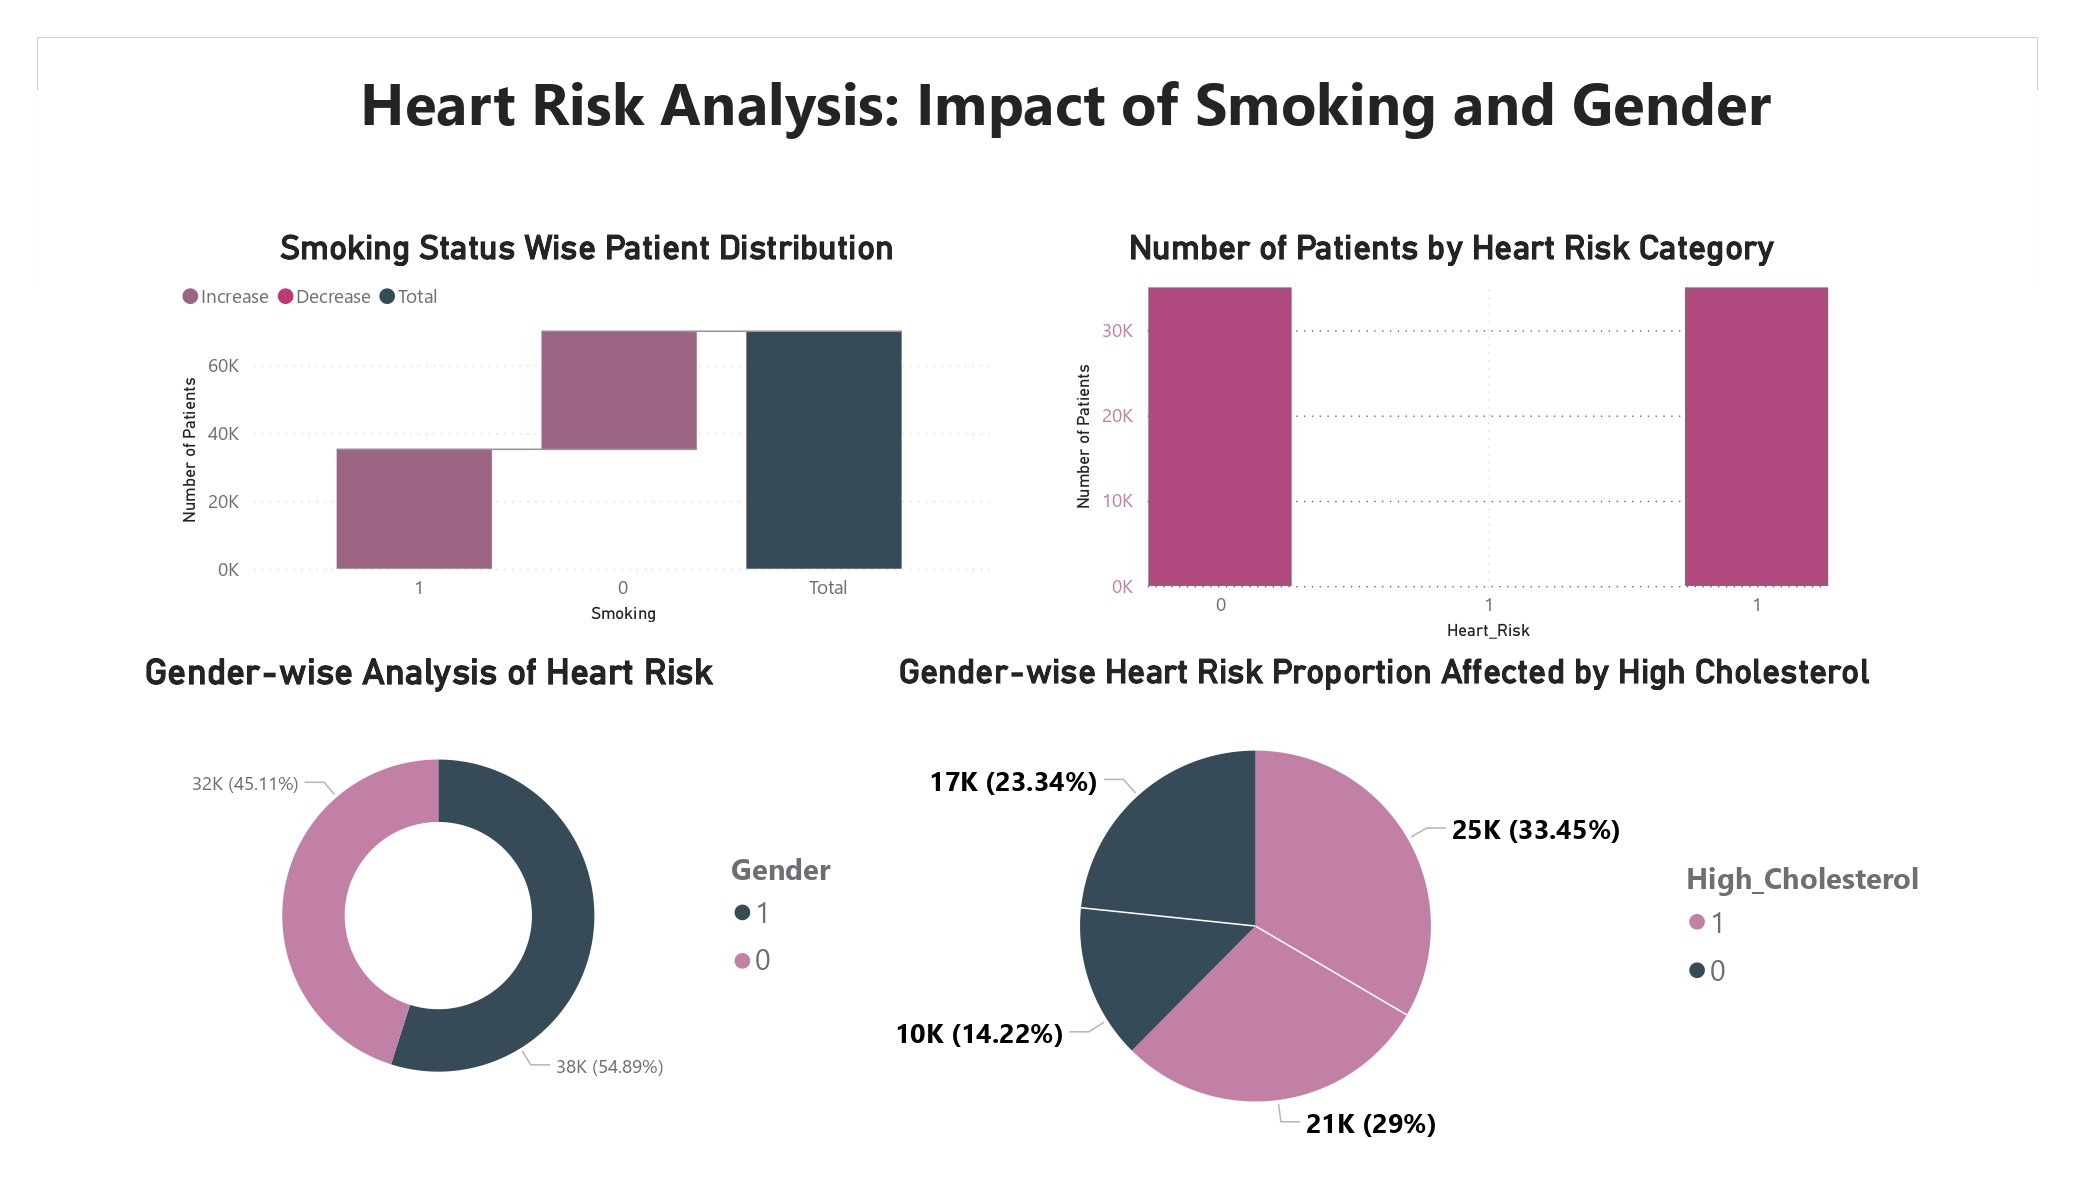

What the dashboard file says about the page in this screenshot:
{"tool":"powerbi","page":{"name":"Page 1","canvas":[1280,720],"ordinal":0},"visuals":[{"type":"pieChart","title":"Gender-wise Heart Risk Proportion Affected by High Cholesterol","fields":{"Y":["Sum(heart_disease_risk_dataset_earlymed.Heart_Risk)","Sum(heart_disease_risk_dataset_earlymed.Gender)"],"Category":["heart_disease_risk_dataset_earlymed.High_Cholesterol"]},"box":[499.4,393.1,726,327.3],"z":0},{"type":"columnChart","title":"Number of Patients by Heart Risk Category","fields":{"Category":["heart_disease_risk_dataset_earlymed.Heart_Risk"],"Y":["heart_disease_risk_dataset_earlymed.Number of Patients"]},"box":[658.9,121.7,492.4,268.6],"z":1000},{"type":"donutChart","title":"Gender-wise Analysis of Heart Risk","fields":{"Category":["heart_disease_risk_dataset_earlymed.Gender"],"Y":["heart_disease_risk_dataset_earlymed.Number of Patients"]},"box":[64.3,393.1,470,312],"z":2000},{"type":"waterfallChart","title":"Smoking Status Wise Patient Distribution","fields":{"Category":["heart_disease_risk_dataset_earlymed.Smoking"],"Y":["heart_disease_risk_dataset_earlymed.Number of Patients"]},"box":[86.7,121.7,528.8,257.4],"z":3000},{"type":"textbox","box":[144.1,11.2,1028.2,60.2],"z":4001}]}

Visuals, with their boxes in screenshot pixels (x1, y1, x2, y2):
"Gender-wise Heart Risk Proportion Affected by High Cholesterol" pieChart: l=818, t=652, r=1952, b=1162
"Number of Patients by Heart Risk Category" columnChart: l=1067, t=228, r=1836, b=647
"Gender-wise Analysis of Heart Risk" donutChart: l=138, t=652, r=872, b=1139
"Smoking Status Wise Patient Distribution" waterfallChart: l=173, t=228, r=999, b=630
textbox: l=263, t=55, r=1869, b=149
